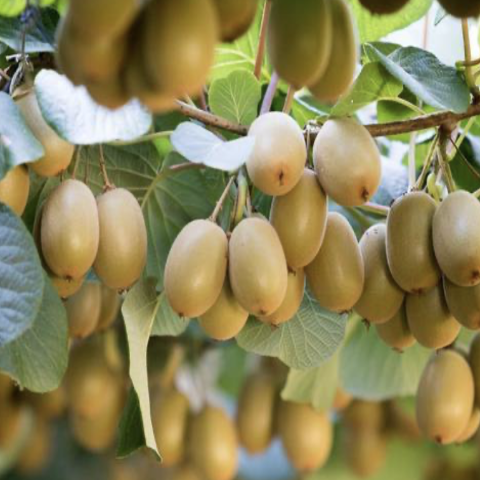kiwi: (380, 180, 456, 314), (162, 193, 235, 329), (82, 177, 157, 294), (312, 112, 388, 217), (216, 206, 289, 314), (413, 340, 479, 450), (39, 172, 99, 290)
